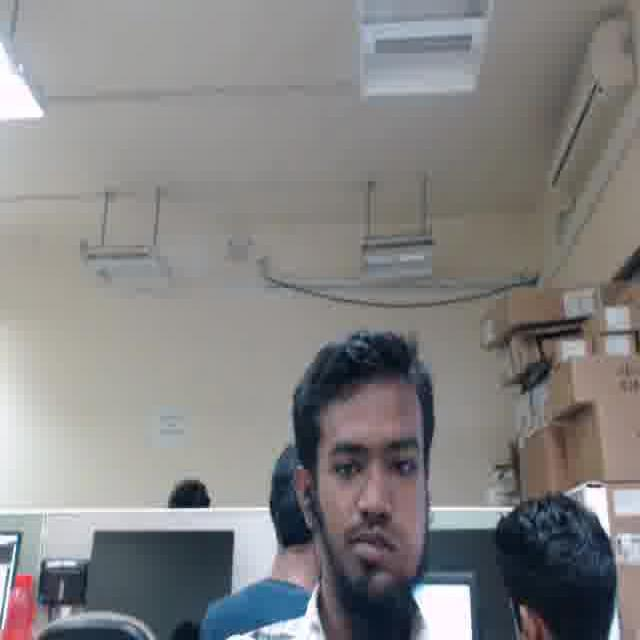Engaged: (314, 390, 429, 594)
